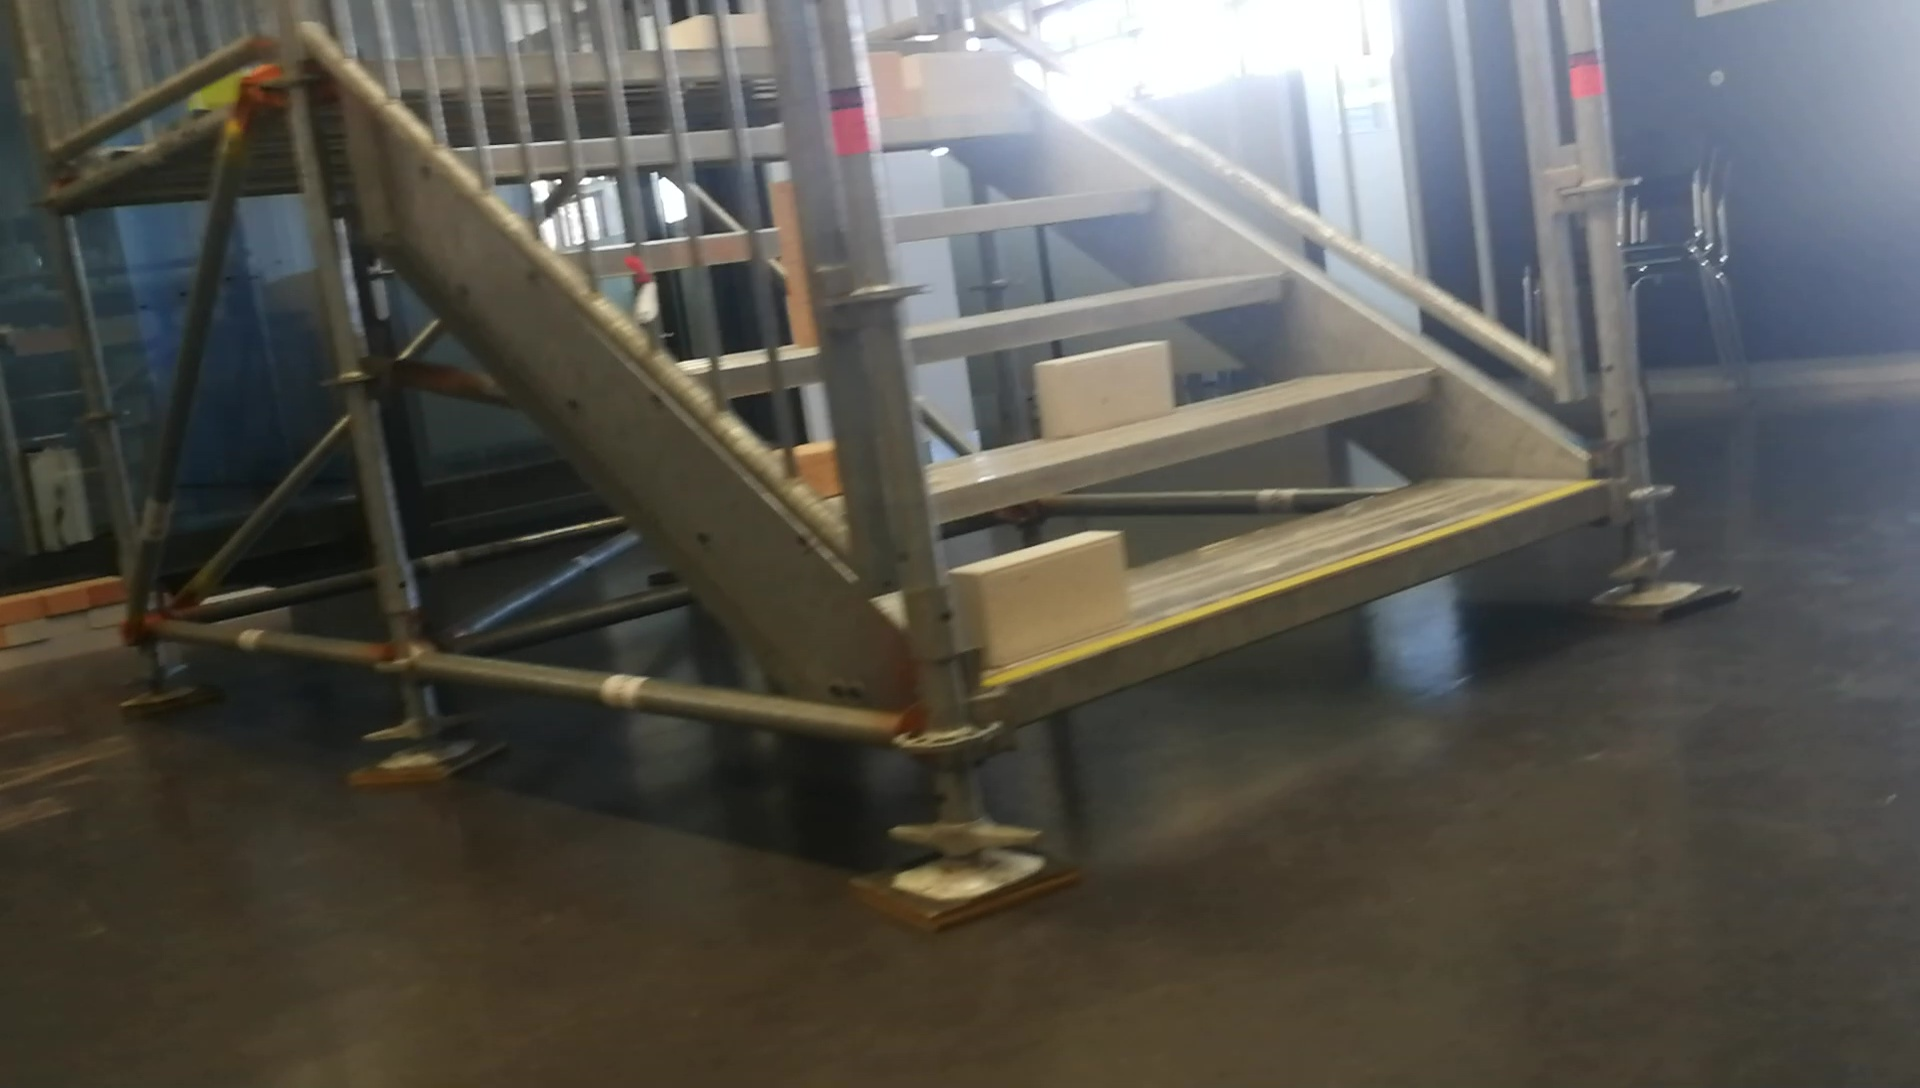brick: (951, 530, 1124, 661), (1035, 340, 1168, 440), (902, 53, 1015, 112), (868, 51, 899, 113)
edge: (1004, 481, 1607, 720)
stairs: (857, 3, 1741, 938)
